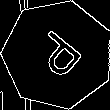P_SE: (26, 24, 89, 85)
